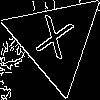X: (30, 15, 75, 69)
